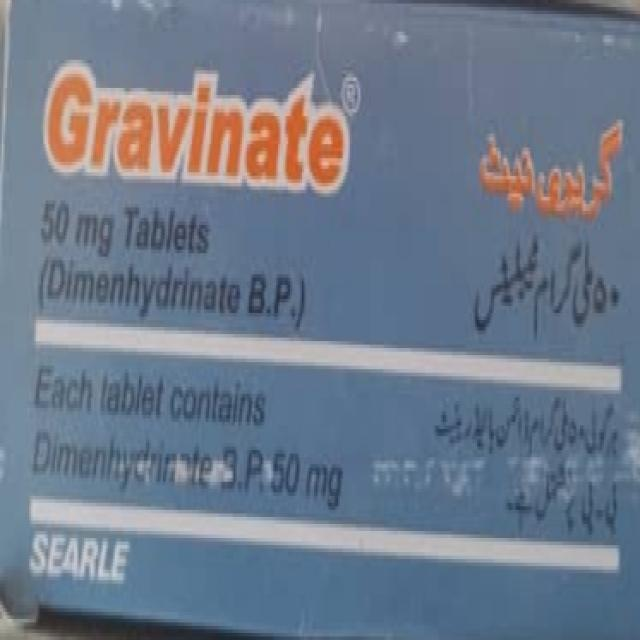drug-name: (39, 50, 366, 194)
